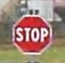stop: (10, 13, 52, 55)
